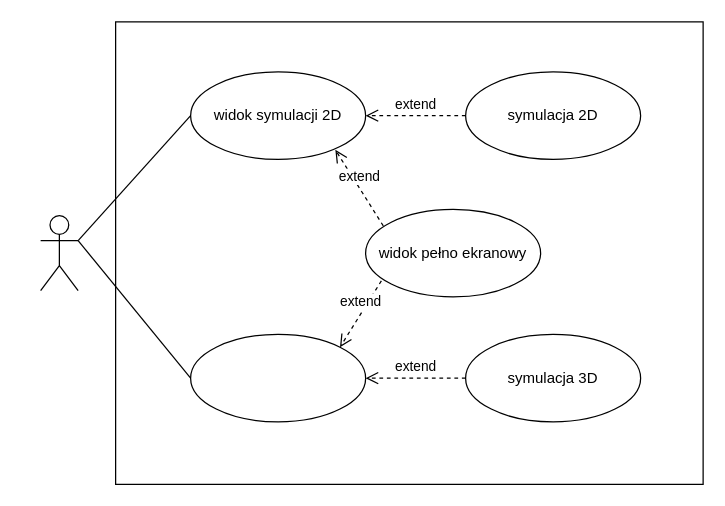
The diagram is 725 pixels wide and 506 high, and some of its shapes have lost their labels. The centre of each missing label's shape, as x and y in pixels:
"Użytkownik" belongs at point 58,252.
"widok symulacji 3D" belongs at point 277,377.
